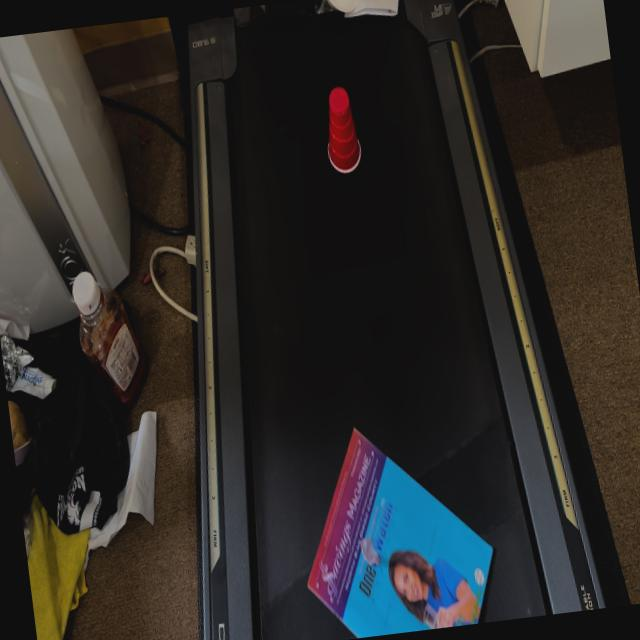Recycle: (296, 422, 502, 640), (316, 80, 376, 184)
